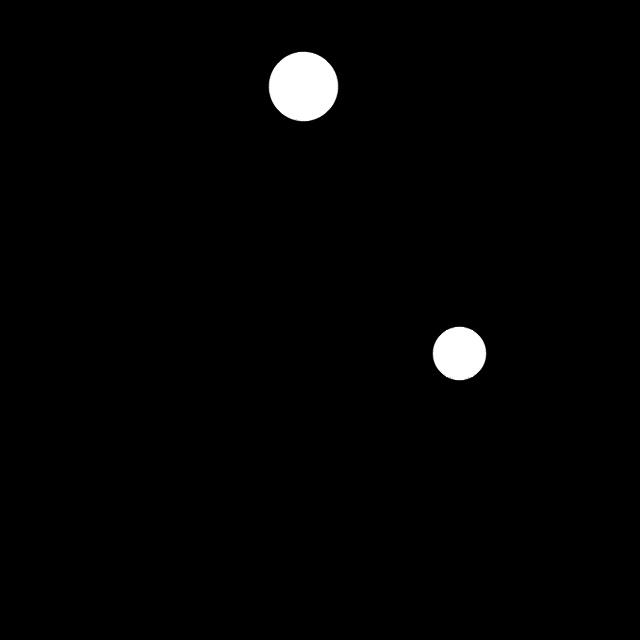Circle: (262, 46, 345, 130), (428, 320, 492, 385)
